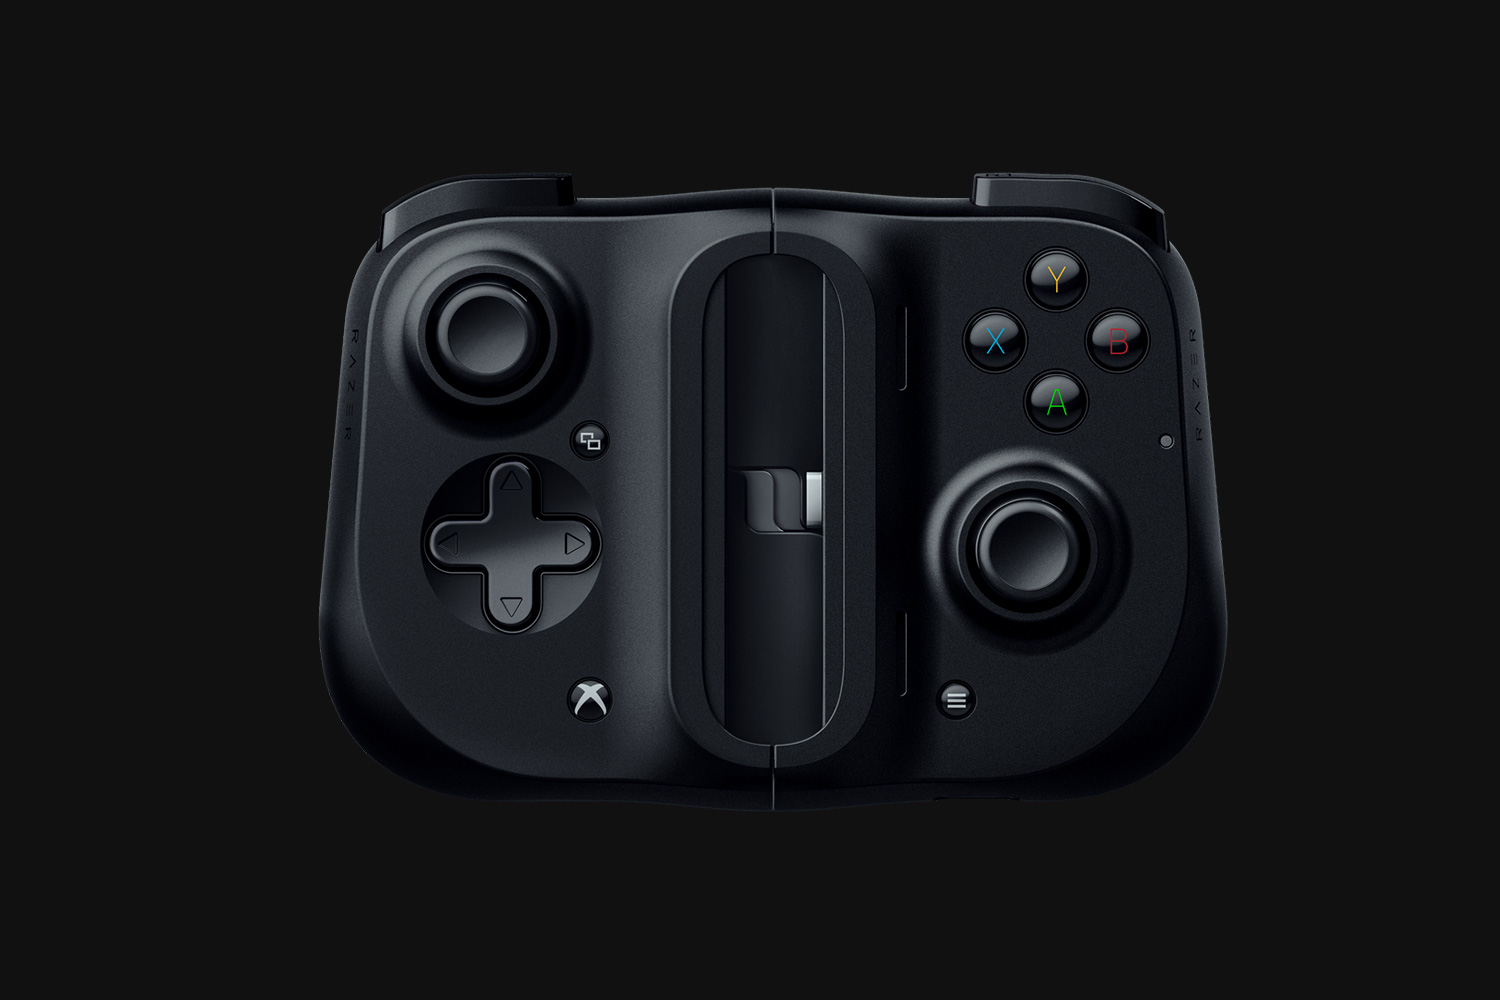controller: (320, 171, 1228, 812)
